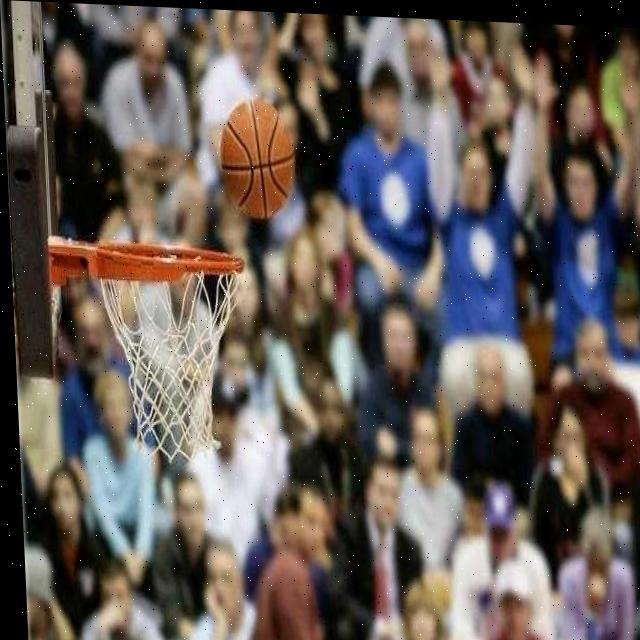Basketball: (216, 95, 295, 224)
